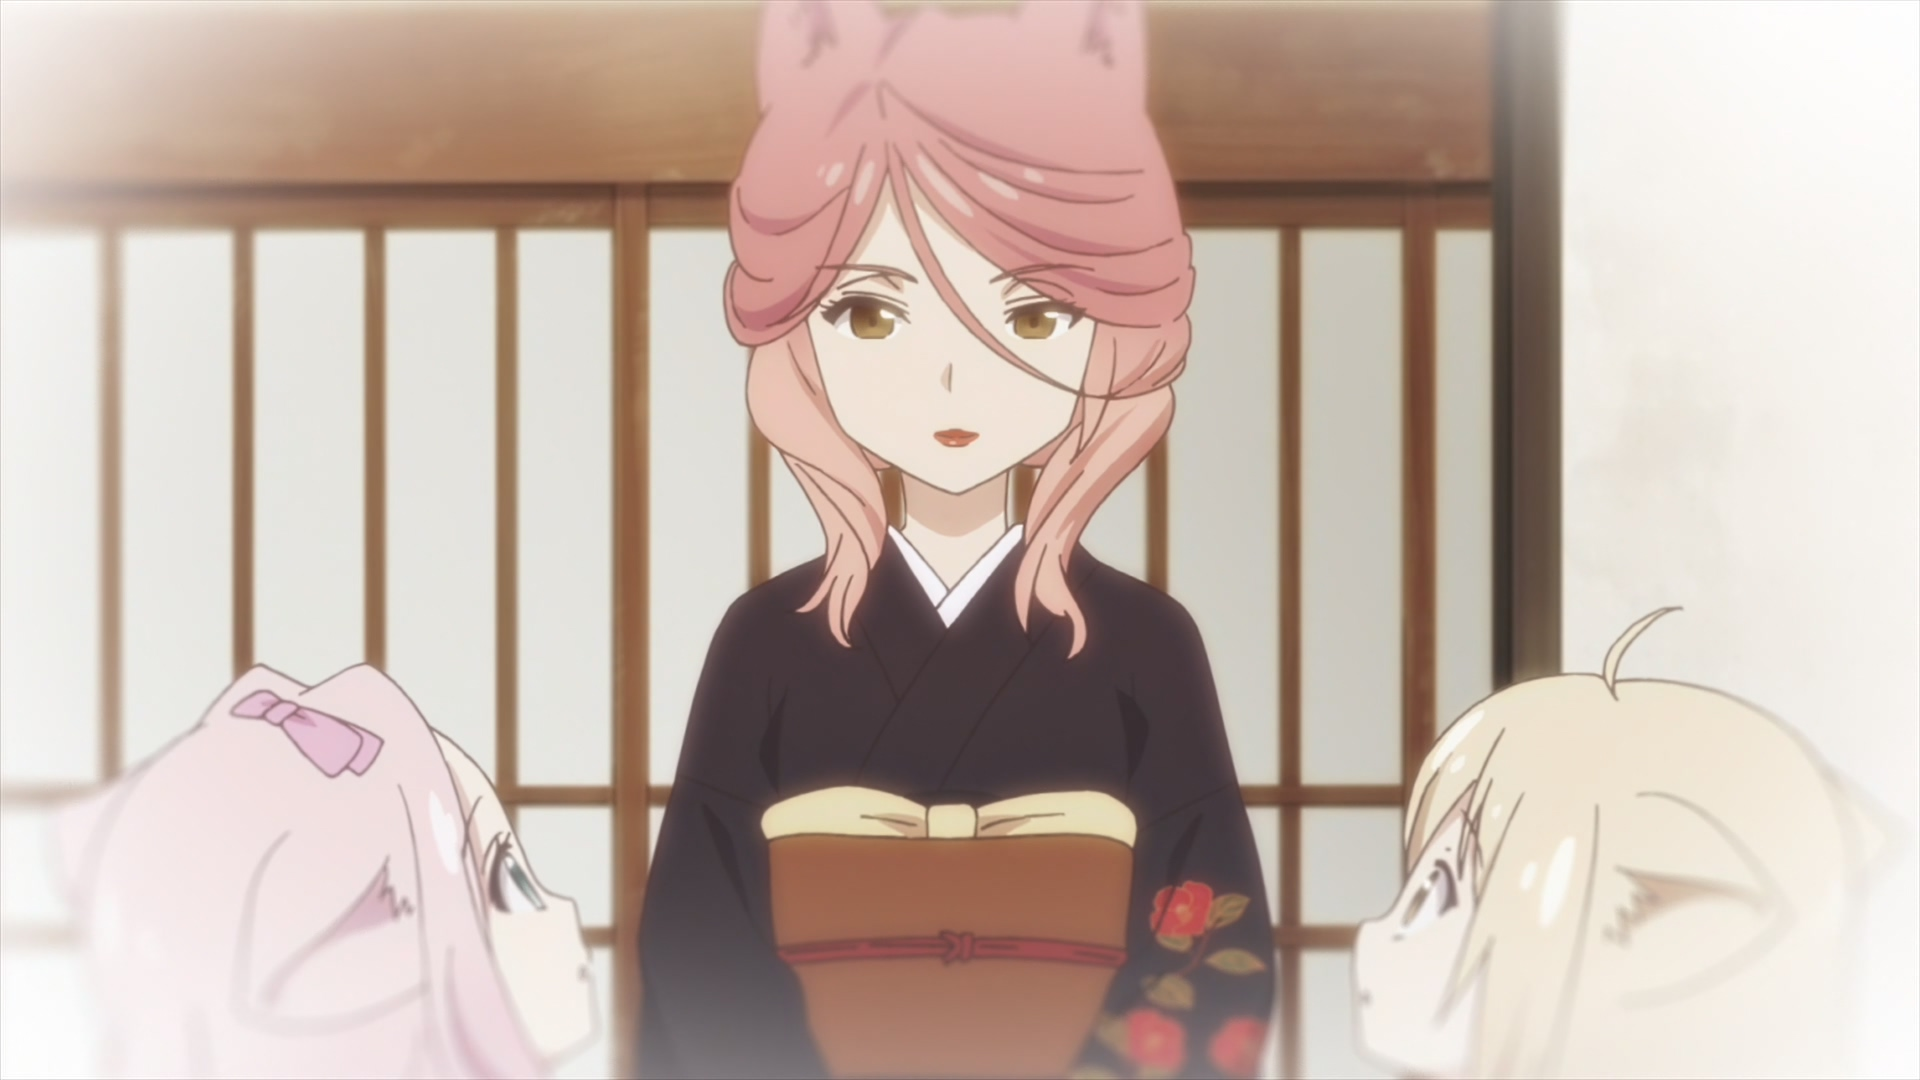柚: (1353, 607, 1913, 1080)
椿: (636, 1, 1276, 1080)
莲: (26, 663, 604, 1080)
